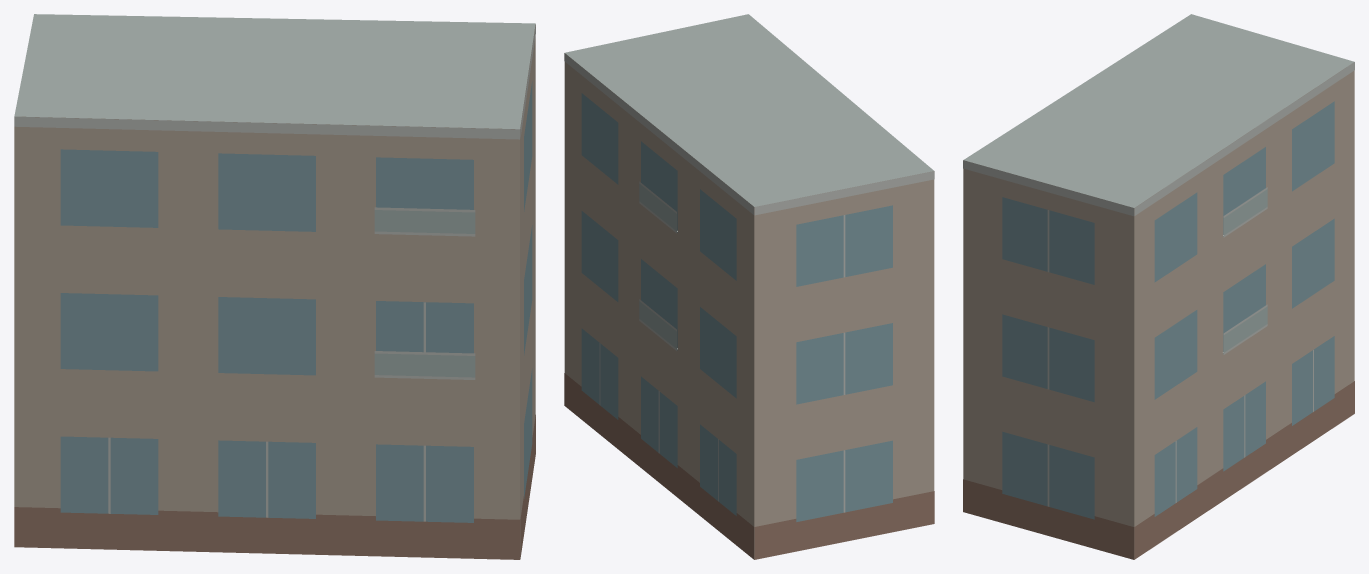
The model's file is survey-upis-32540660.glb.
3 renders of one model, left to right at view 1: azimuth 30°, elevation 25°; view 2: azimuth 150°, elevation 25°; view 3: azimuth 270°, elevation 25°, orthographic. The views are drawn at different scales.
Visible parts, largest first — view 1: survey-upis-32540660.tmp; view 2: survey-upis-32540660.tmp; view 3: survey-upis-32540660.tmp.
Part boxes in pixels (x1=…): survey-upis-32540660.tmp: x1=14, y1=14, x2=535, y2=559; survey-upis-32540660.tmp: x1=564, y1=14, x2=934, y2=559; survey-upis-32540660.tmp: x1=963, y1=14, x2=1354, y2=559.
Bounding box in the file's own units: 12.07 × 10.2 × 10.29.
